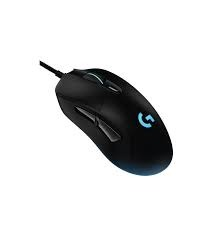mouse: (47, 63, 175, 177)
